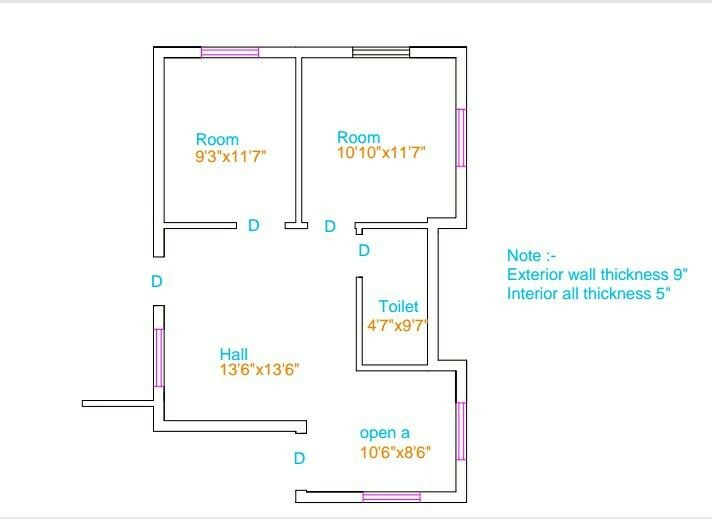room: (135, 215, 357, 444), (350, 226, 473, 505), (143, 41, 309, 239), (297, 39, 467, 230)
wall: (148, 45, 167, 255), (152, 413, 312, 437), (427, 218, 444, 369), (292, 57, 306, 236), (290, 481, 364, 507), (260, 44, 352, 63), (352, 274, 368, 370), (355, 355, 426, 372), (353, 220, 427, 235), (449, 357, 474, 400), (409, 44, 468, 62), (161, 218, 239, 230), (453, 163, 467, 225), (453, 63, 471, 109), (416, 490, 457, 508), (455, 459, 469, 508)
window: (448, 106, 474, 168), (199, 41, 258, 66), (365, 482, 420, 507), (350, 42, 412, 63), (452, 400, 472, 463), (153, 330, 171, 385)
